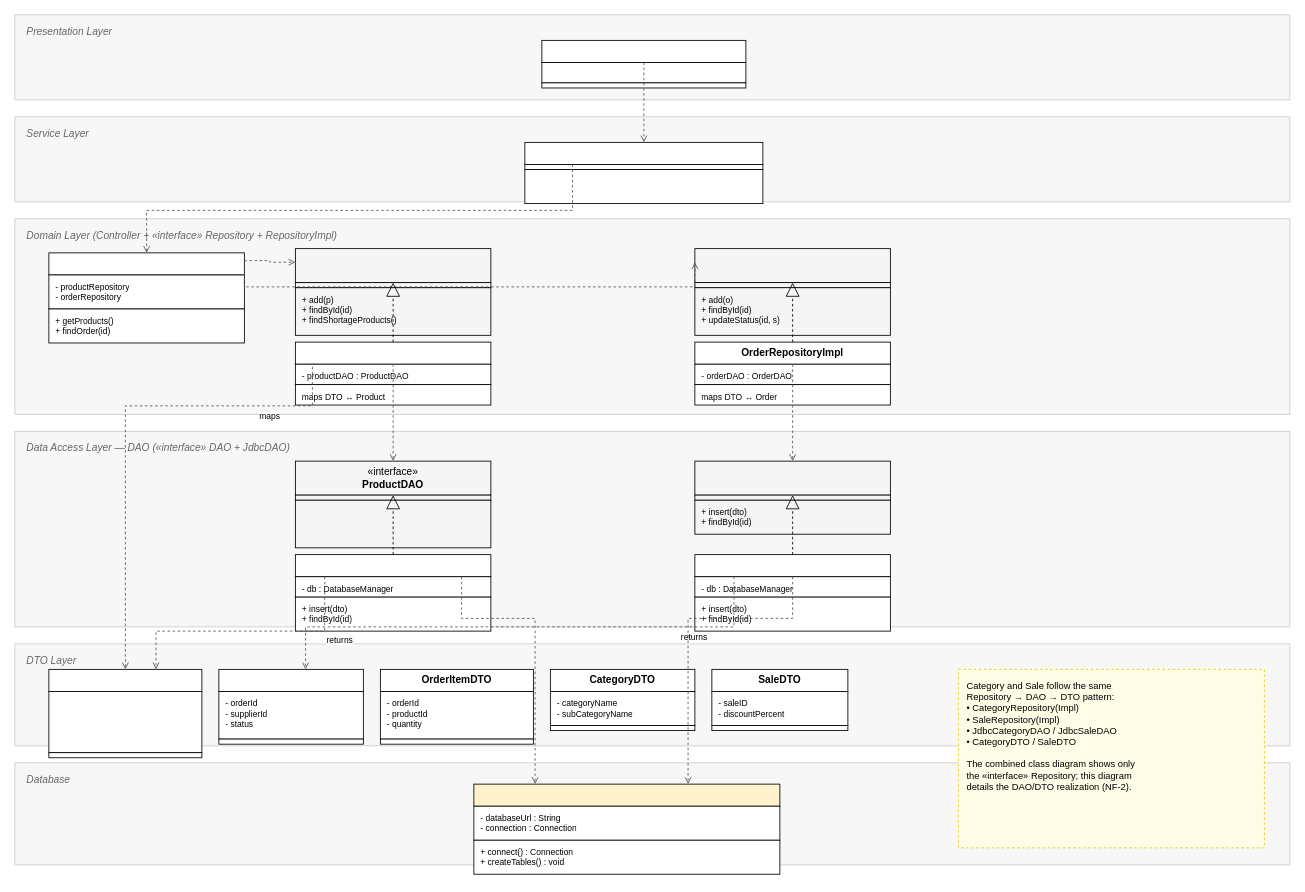
This 1305x892 diagram has some shape labels left out. The centre of each missing label's shape, as x and y in pixels:
"+ insert(dto) + findById(id) + findShortage()" goes at (393,523).
"+ orderShortageFromSupplier() + confirmOrder(...)" goes at (643,186).
"- productID - shopQuantity - warehouseQuantity - minLimit" goes at (125,722).
"- service : ServiceController" goes at (643,72).
"DatabaseManager" goes at (626,794).
"InventoryController" goes at (146,263).
"InventoryMenu" goes at (643,51).
"InventoryService" goes at (643,153).
"JdbcOrderDAO" goes at (792,565).
"JdbcProductDAO" goes at (393,565).
"OrderDTO" goes at (290,680).
"ProductDTO" goes at (125,680).
"ProductRepositoryImpl" goes at (393,352).
"«interface» OrderDAO" goes at (792,477).
"«interface» OrderRepository" goes at (792,265).
"«interface» ProductRepository" goes at (393,265).
